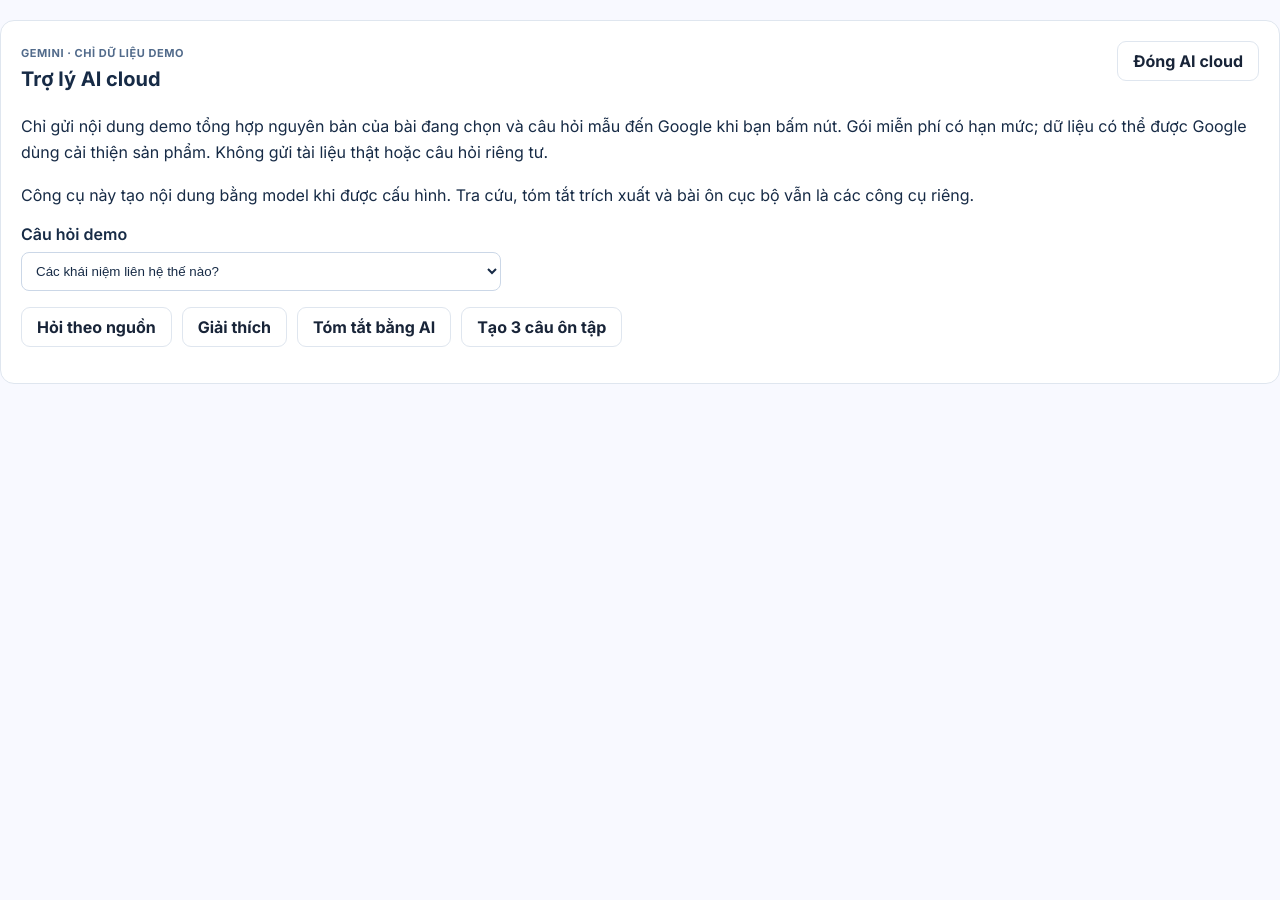
demo cloud explicit scoped interaction › requires an explicit action, sends only finite fields, renders escaped text and citations
Expected: the button "Hỏi theo nguồn" is enabled, [21,307,172,347]
Select "Giải thích ví dụ từng bước" in the dropdown labelled "Câu hỏi demo". click: {"x": 261, "y": 272}
box: [21,252,501,291]
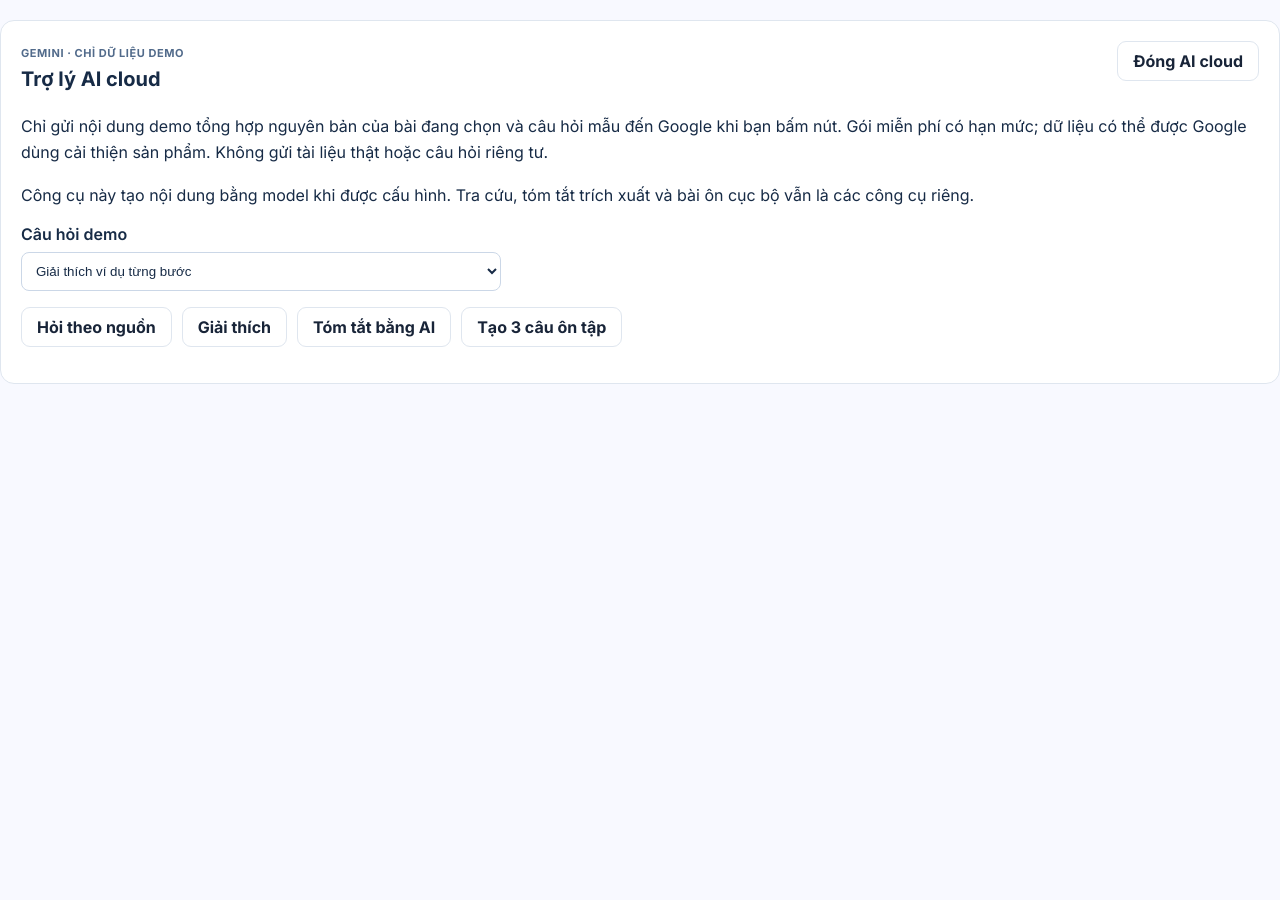
Click the button "Hỏi theo nguồn". click: {"x": 96, "y": 327}
box: [21,307,172,347]
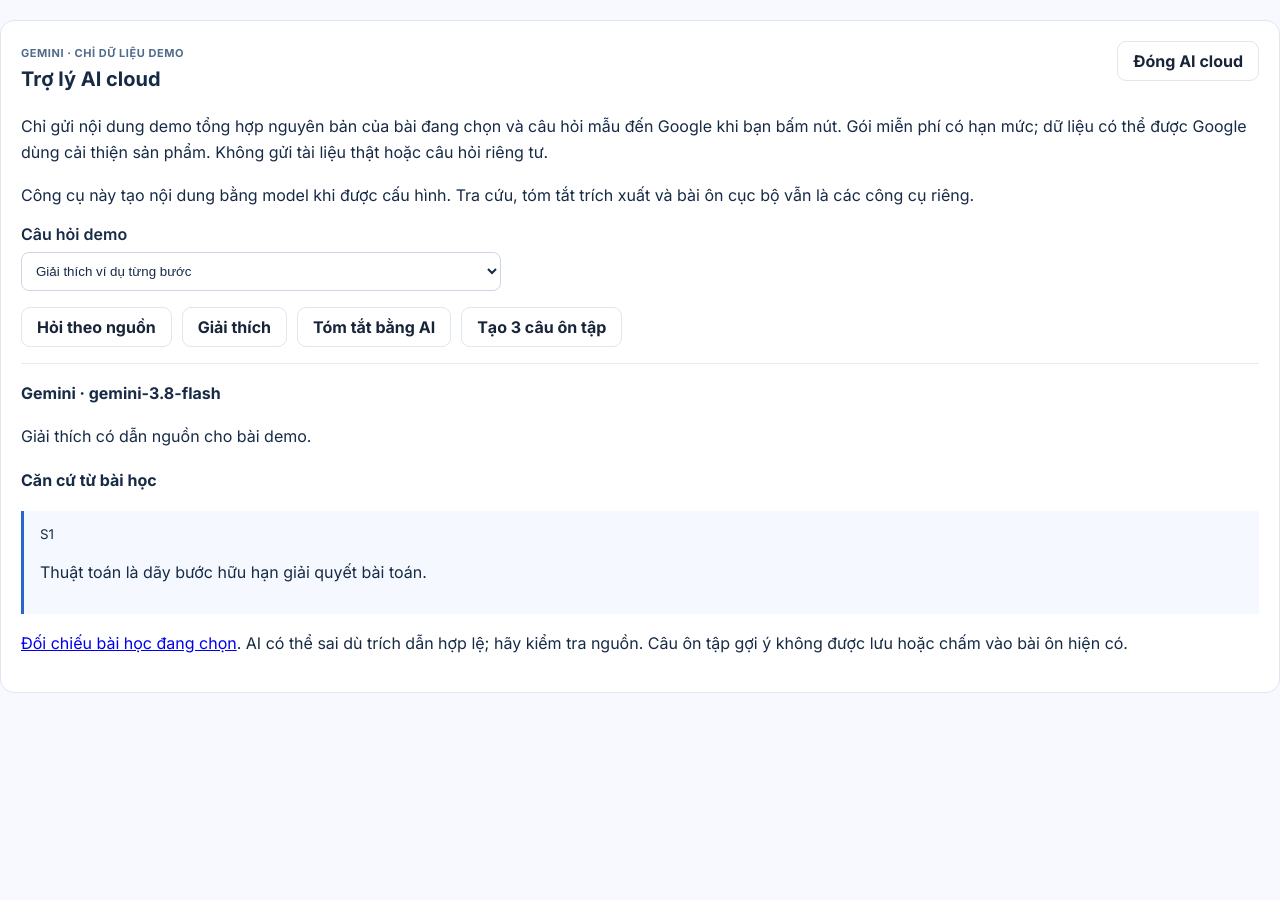
Expected: the text "Giải thích có dẫn nguồn cho bài demo." is shown, [21,426,311,446]
Expected: the text "Thuật toán là dãy bước hữu hạn giải quyết bài toán." is shown, [40,562,427,582]
